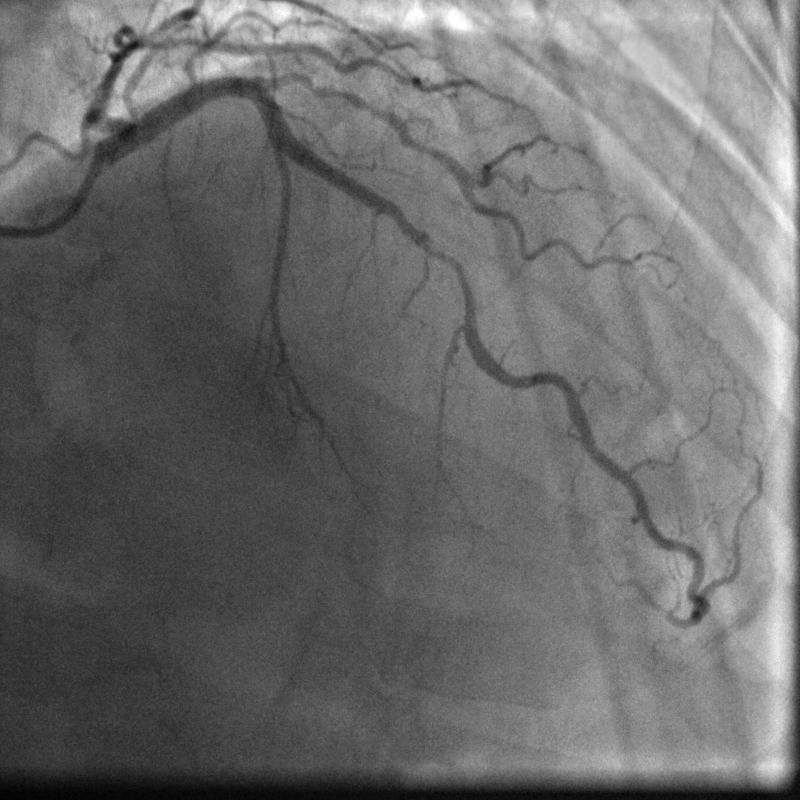Stenosis: (415, 223, 478, 320)
